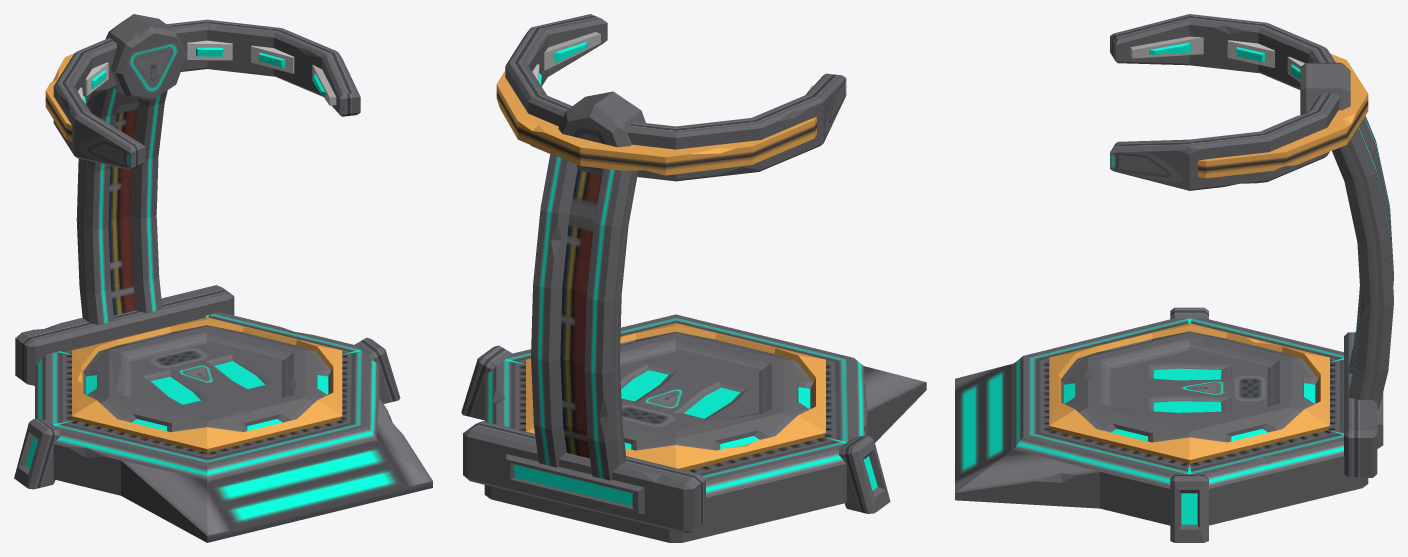
File: SM_Prop_Robot_Charger_01.fbx
3 views of the same model, side by side, from view 1: azimuth 30°, elevation 25°; view 2: azimuth 150°, elevation 25°; view 3: azimuth 270°, elevation 25° (orthographic). The views are drawn at different scales.
Parts seen in each view (by area): view 1: SM_Prop_Robot_Charger_01; view 2: SM_Prop_Robot_Charger_01; view 3: SM_Prop_Robot_Charger_01.
Part boxes in pixels (left/top/right/bottom): SM_Prop_Robot_Charger_01: left=14, top=14, right=432, bottom=542; SM_Prop_Robot_Charger_01: left=461, top=14, right=926, bottom=542; SM_Prop_Robot_Charger_01: left=955, top=14, right=1393, bottom=542.
Size of the model in its own units: 140 by 133 by 138.
